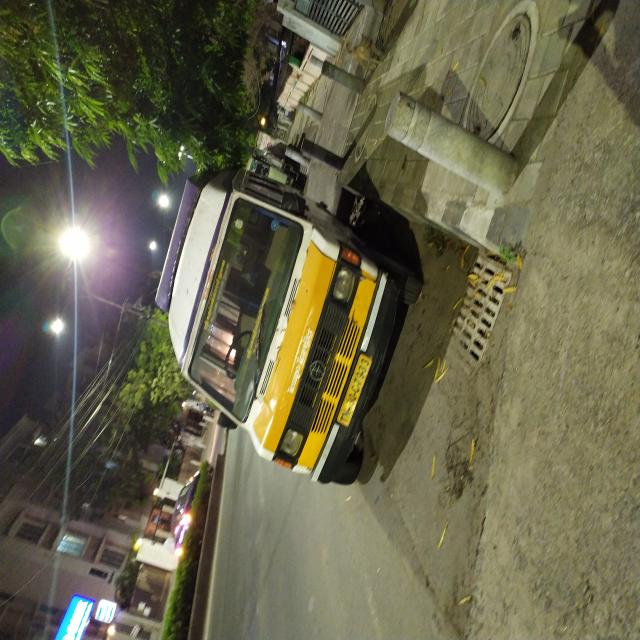Bus: (116, 156, 342, 580)
